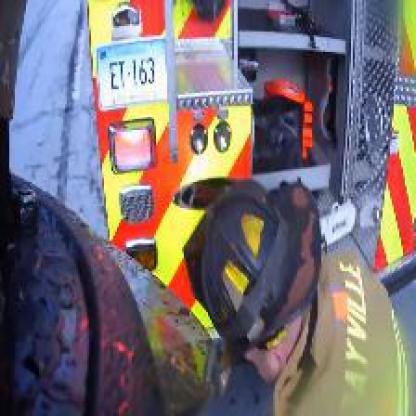other: (86, 9, 259, 288), (386, 2, 413, 258)
